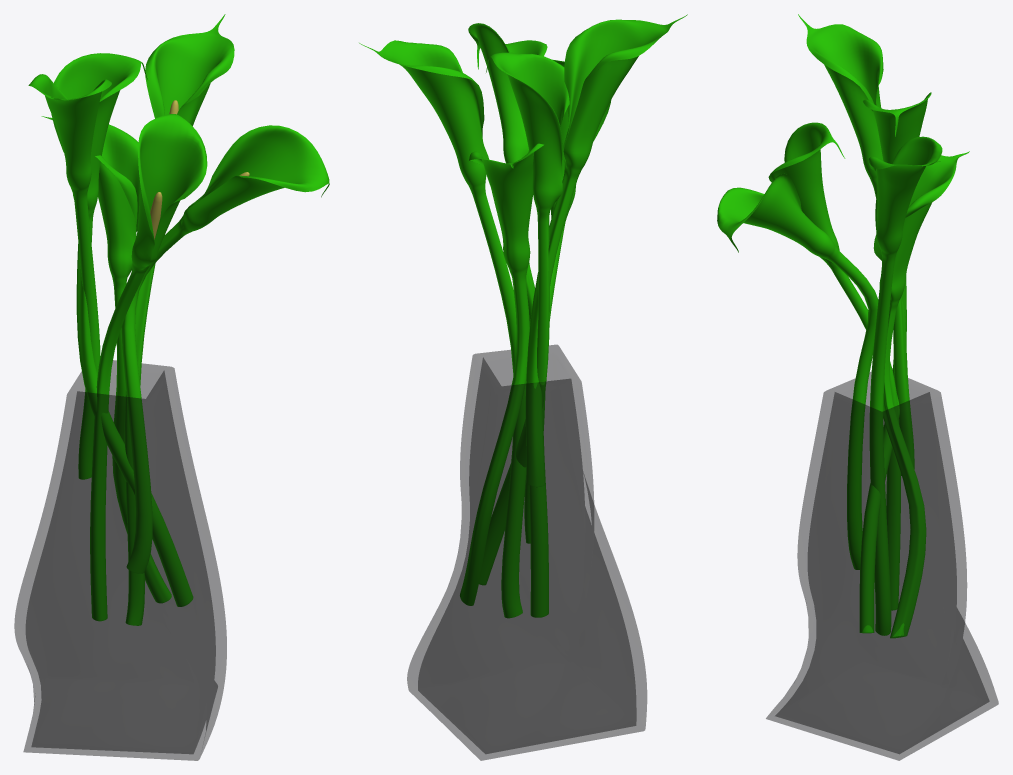
The model's file is VasBunga.gltf.
3 views of the same model, side by side, from view 1: azimuth 30°, elevation 25°; view 2: azimuth 150°, elevation 25°; view 3: azimuth 270°, elevation 25° (orthographic). The views are drawn at different scales.
Parts seen in each view (by area): view 1: VaseCeramic_003; view 2: VaseCeramic_003; view 3: VaseCeramic_003.
Boxes of the visible parts, box(x1,y1,x2,y2) form: VaseCeramic_003: box(14, 14, 329, 760); VaseCeramic_003: box(359, 14, 687, 760); VaseCeramic_003: box(717, 14, 998, 760).
Size of the model in its own units: 0.9383 by 2.45 by 0.9699.
